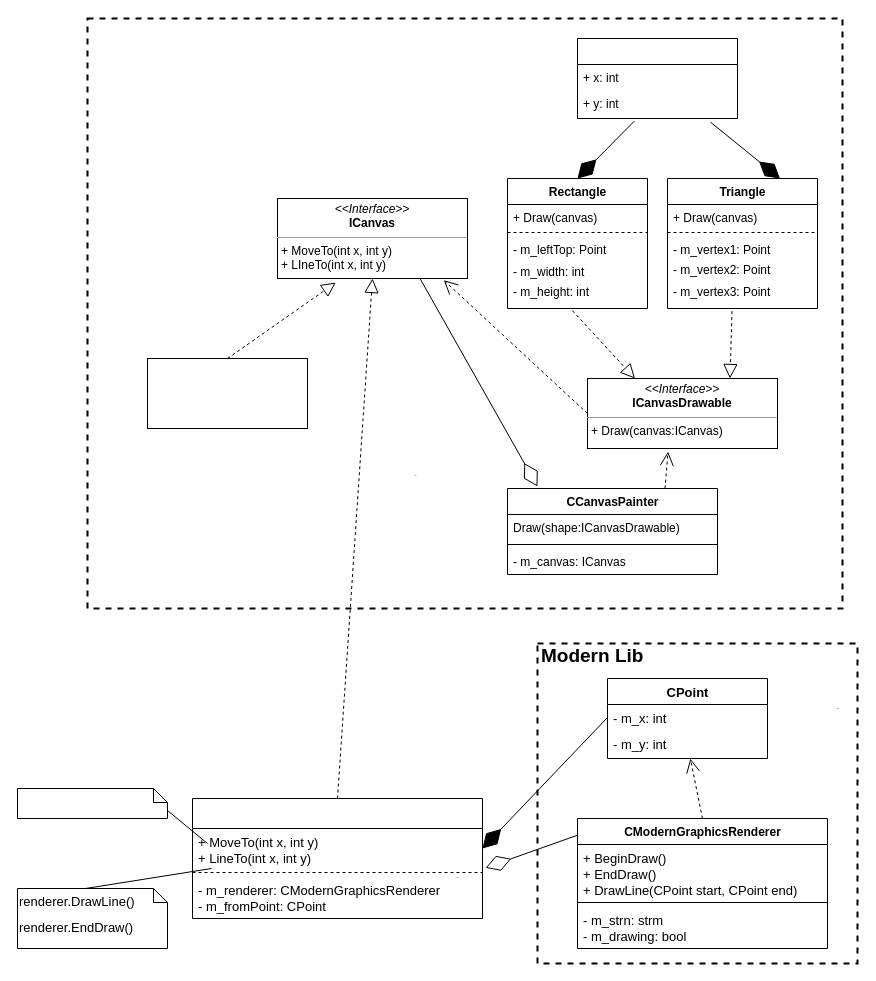
This 876x981 diagram has some shape labels left out. Here are the shapes that lost their labels. From the top down, the box of each, then its label:
(576, 38, 738, 118): Point
(86, 17, 843, 609): Lib
(146, 358, 308, 428): CCanvas + MoveTo(int x, int y) + LineTo(int x, int y):
(16, 788, 168, 818): renderer.BeginDraw()
(192, 798, 482, 918): CModernGraphicsRendererAdapter
